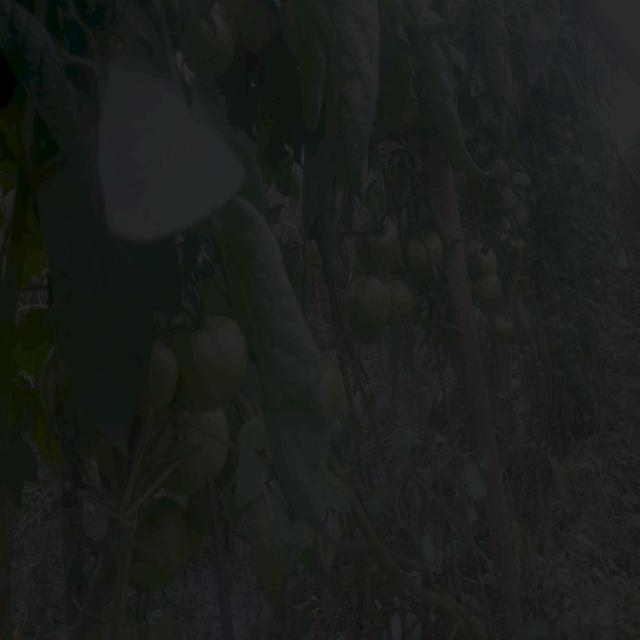tomato: (175, 316, 250, 406), (160, 408, 229, 492), (130, 502, 192, 591), (138, 339, 182, 417), (185, 17, 234, 78), (347, 276, 387, 337), (360, 216, 402, 271), (321, 360, 342, 417), (408, 233, 444, 264), (466, 239, 499, 272), (479, 277, 505, 310), (496, 313, 512, 344)
